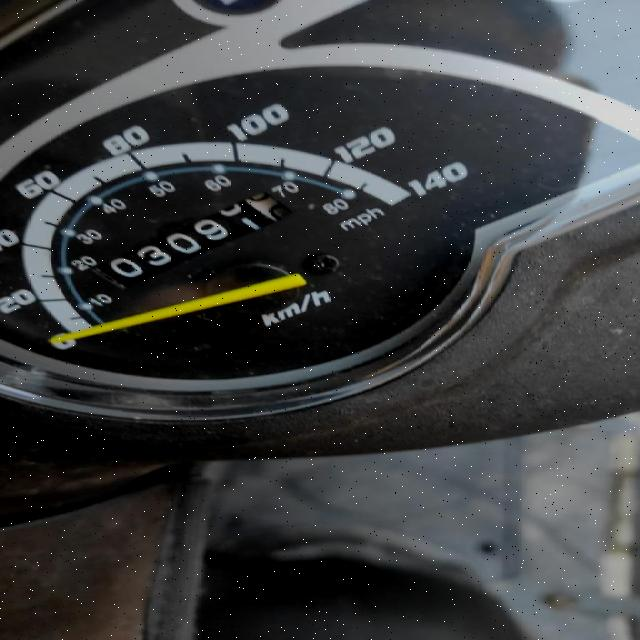odometer: (83, 189, 294, 290)
